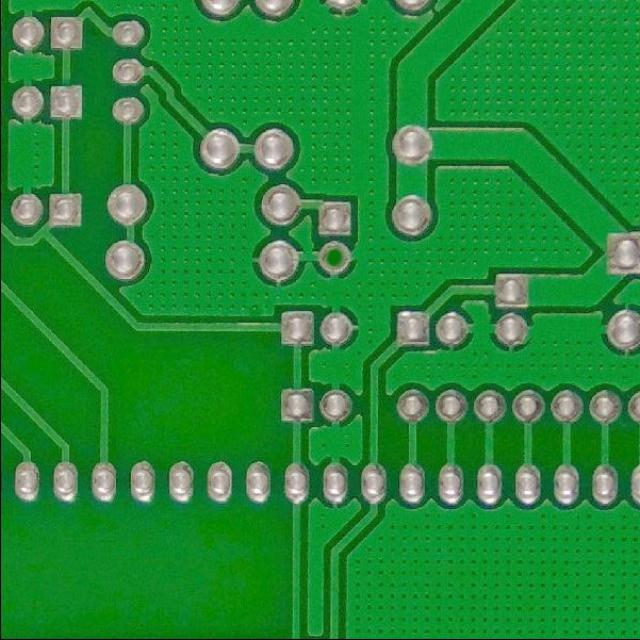missing_hole: (313, 240, 356, 274)
